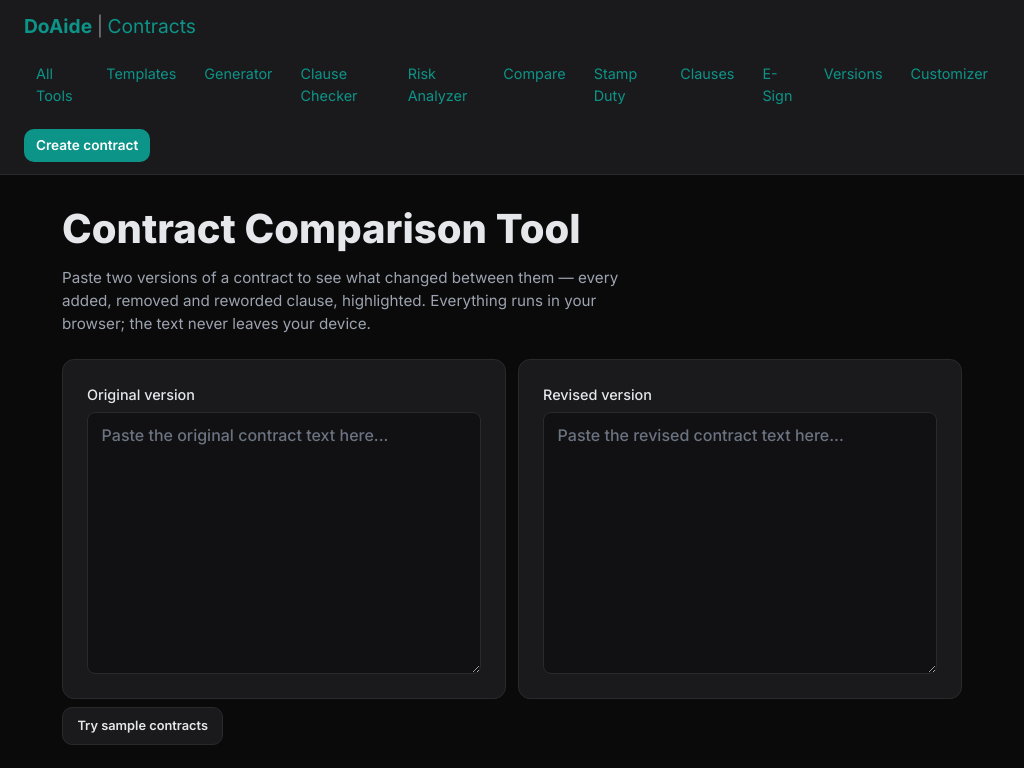
Test: ContractComparisonPage › compares the sample contracts on button click
Click the button "Try sample contracts".
click(143, 726)  # box 62,707 -> 223,744
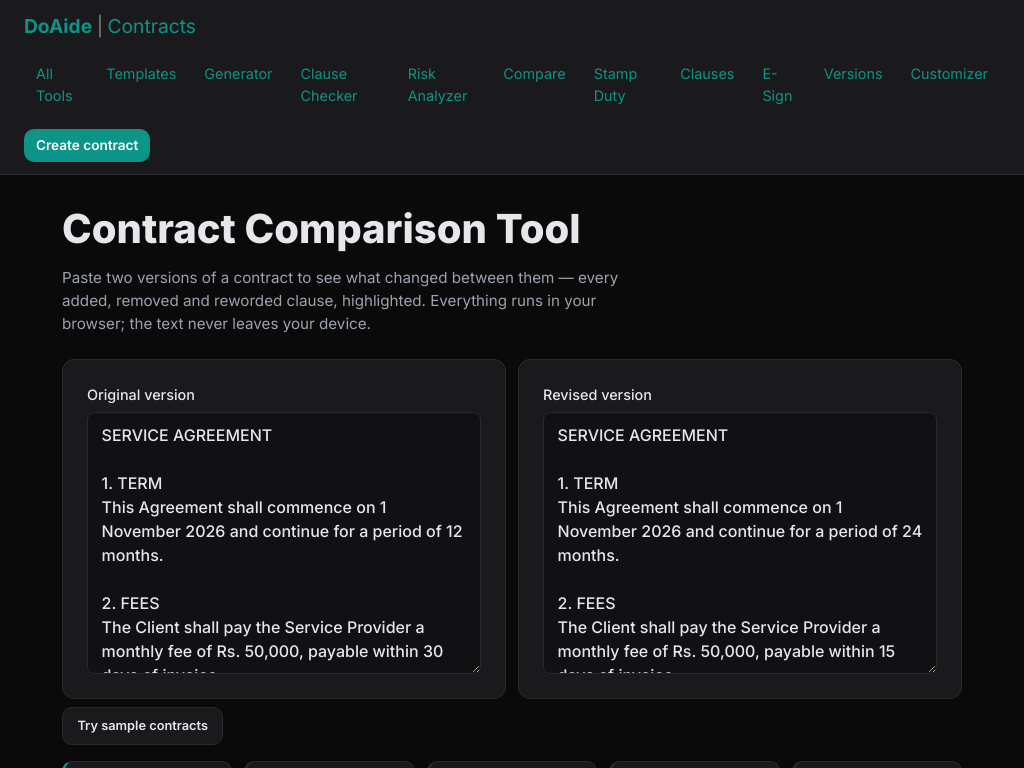
Check: the text box "confidential" is shown, box 543,412 -> 937,674
